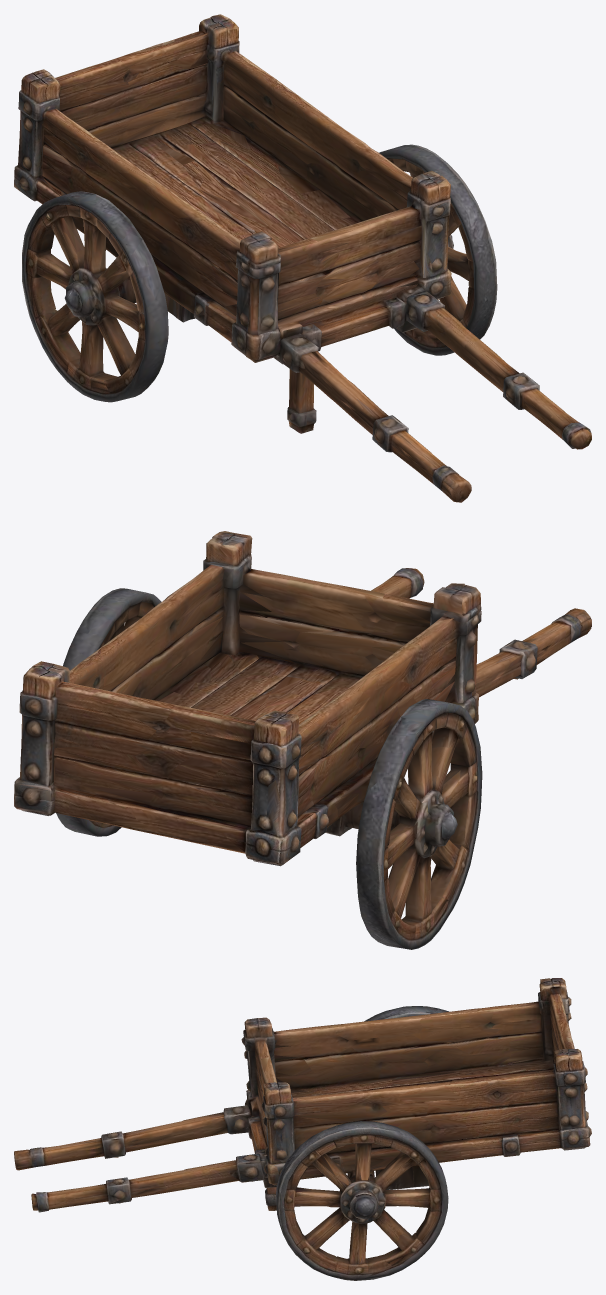
The model's file is wagon.glb.
3 views of the same model, one above another, from view 1: azimuth 30°, elevation 25°; view 2: azimuth 150°, elevation 25°; view 3: azimuth 270°, elevation 25° (orthographic). The views are drawn at different scales.
Parts seen in each view (by area): view 1: nebeljagd-tripo-wagon; view 2: nebeljagd-tripo-wagon; view 3: nebeljagd-tripo-wagon.
Part boxes in pixels (x1,y1,x2,y2): nebeljagd-tripo-wagon: (14, 14, 591, 502); nebeljagd-tripo-wagon: (14, 531, 591, 949); nebeljagd-tripo-wagon: (14, 978, 591, 1280).
Size of the model in its own units: 1.62 by 1.09 by 2.9.
Materials: 1 (1 with a texture image).
